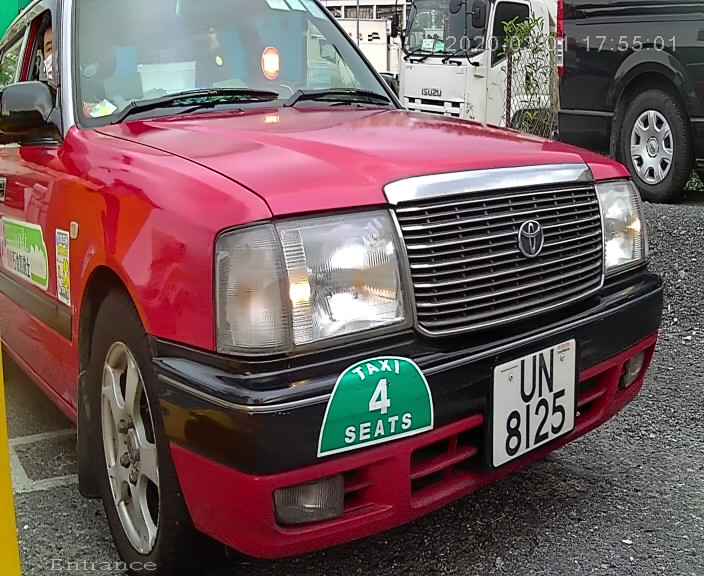taxi: (18, 2, 651, 569)
taxi_mark: (295, 340, 445, 475)
